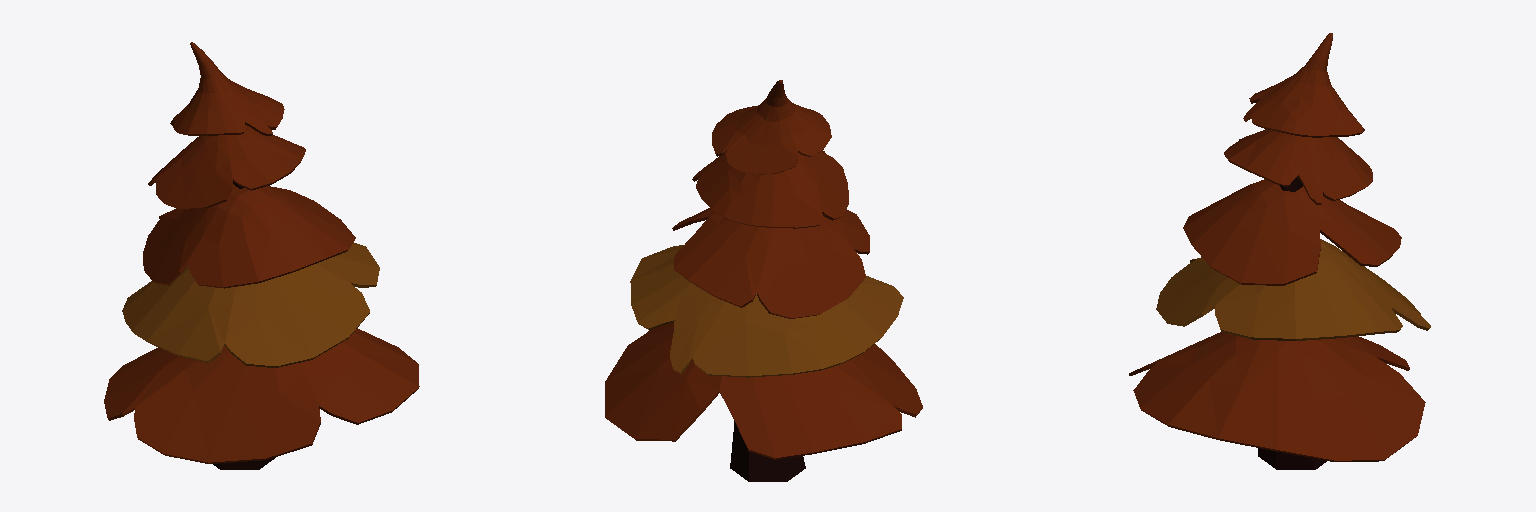
The model's file is PineTree_Autumn_1_Cylinder.obj.
3 views of the same model, side by side, from view 1: azimuth 30°, elevation 25°; view 2: azimuth 150°, elevation 25°; view 3: azimuth 270°, elevation 25° (orthographic).
Visible parts, largest first — view 1: PineTree_Autumn_1_Cylinder.065; view 2: PineTree_Autumn_1_Cylinder.065; view 3: PineTree_Autumn_1_Cylinder.065.
Boxes of the visible parts, x1=… form: PineTree_Autumn_1_Cylinder.065: x1=104, y1=42, x2=419, y2=469; PineTree_Autumn_1_Cylinder.065: x1=605, y1=80, x2=922, y2=481; PineTree_Autumn_1_Cylinder.065: x1=1129, y1=33, x2=1430, y2=469.
Size of the model in its own units: 1.96 by 2.7 by 1.82.